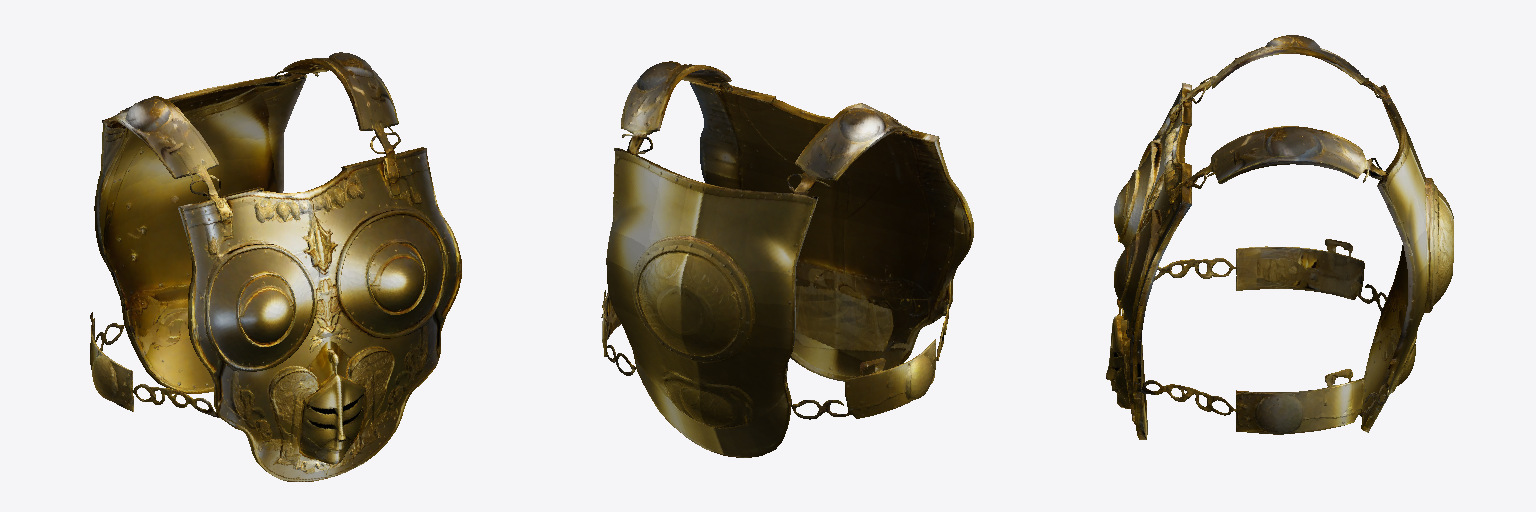
3 renders of one model, left to right at view 1: azimuth 30°, elevation 25°; view 2: azimuth 150°, elevation 25°; view 3: azimuth 270°, elevation 25°, orthographic.
Visible parts, largest first — view 1: base_[number redacted]_texture; view 2: base_[number redacted]_texture; view 3: base_[number redacted]_texture.
Boxes of the visible parts, x1=… form: base_[number redacted]_texture: x1=90, y1=52, x2=461, y2=481; base_[number redacted]_texture: x1=601, y1=61, x2=973, y2=457; base_[number redacted]_texture: x1=1106, y1=35, x2=1453, y2=439.
Size of the model in its own units: 1.93 by 2 by 1.83.
1 materials, 1 textured.